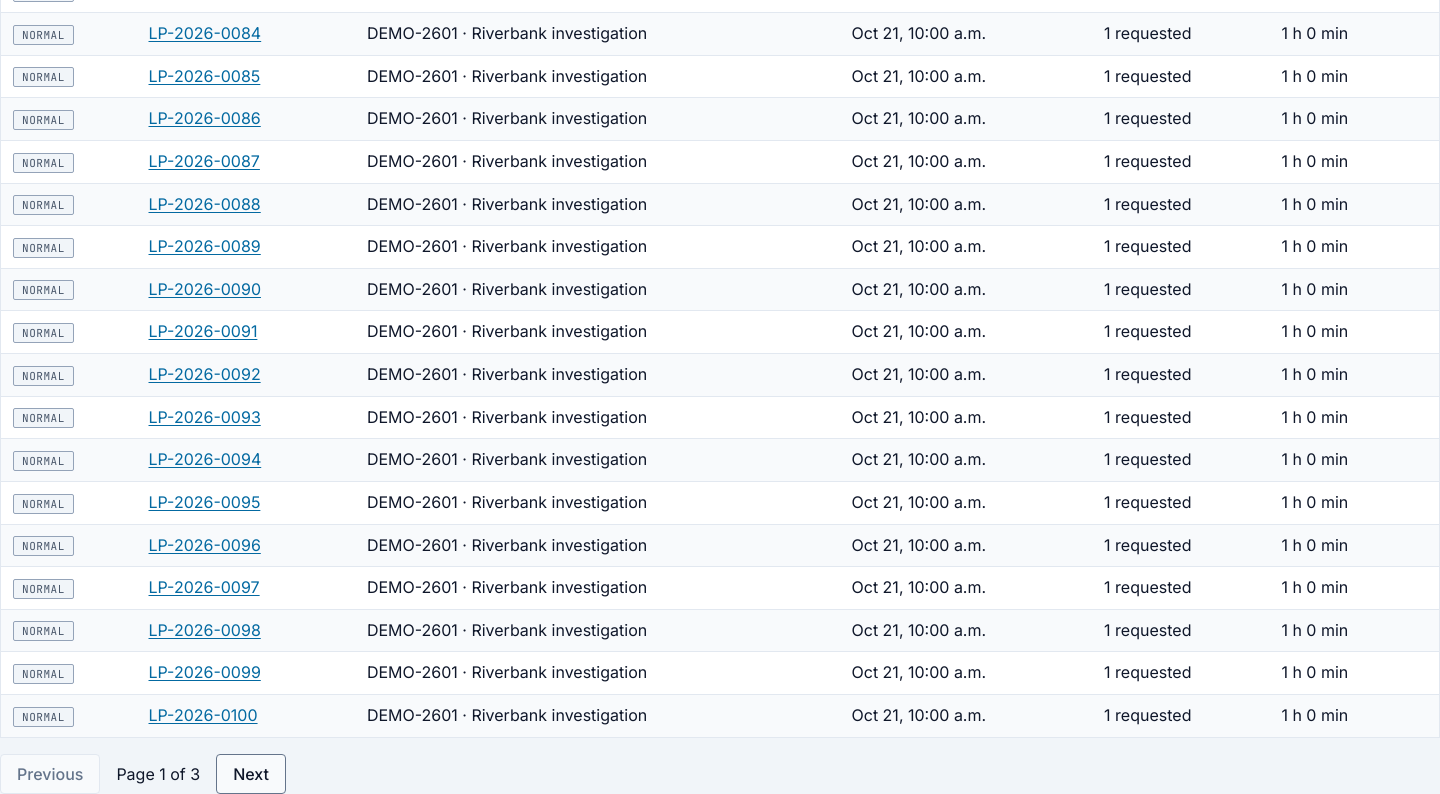
Test: Lab Testing → Worklist while a page is loading › a failed page offers a retry, and the retry loads that page
(page scrolled)
Click the button "Next". click: (251, 774)
box: [216,754,286,793]
(page scrolled)
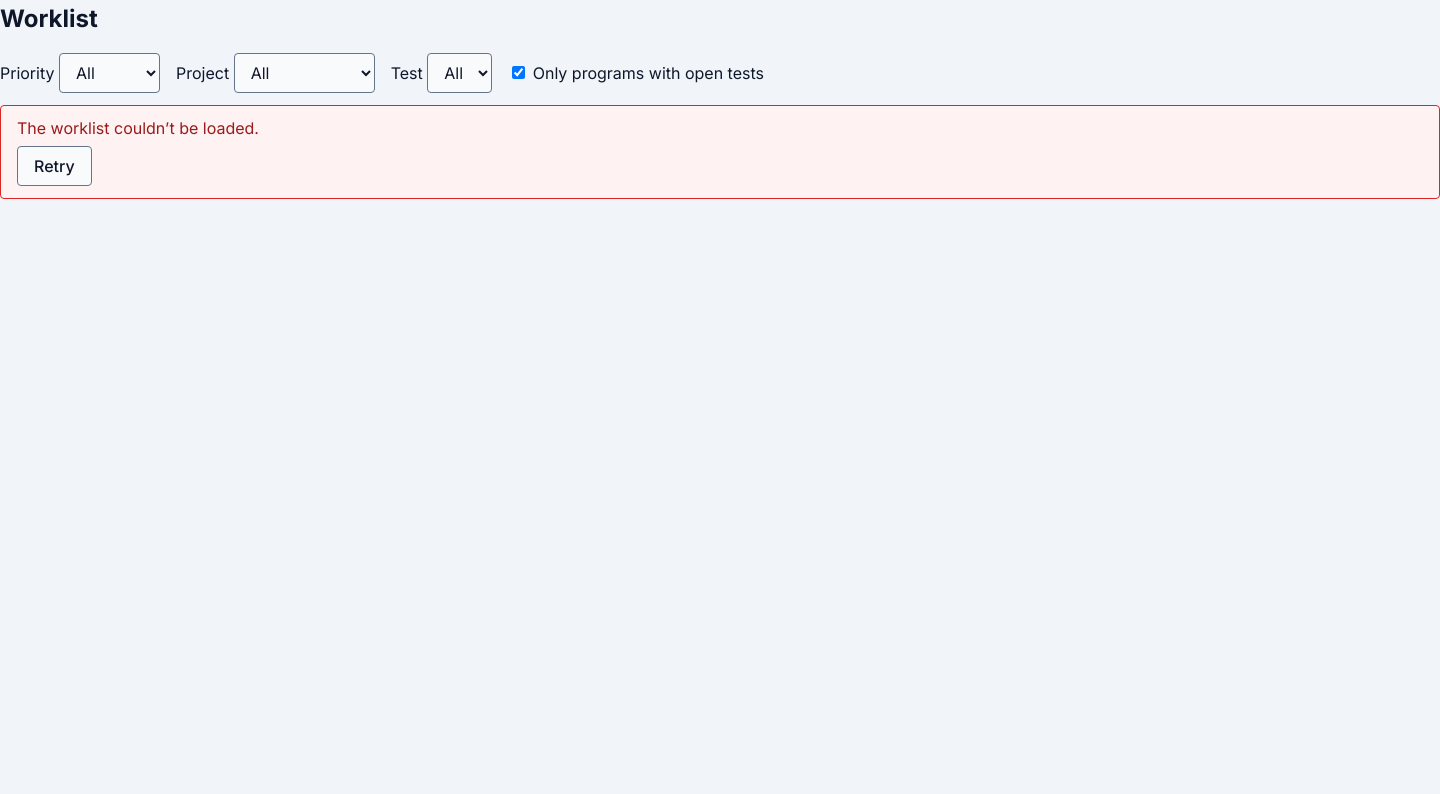
Now the text "The worklist couldn’t be loaded." is shown, box [17,118,259,138]
Now the navigation bar "Pages" is gone
Click the button "Retry". click: (54, 166)
box: [17,146,92,186]
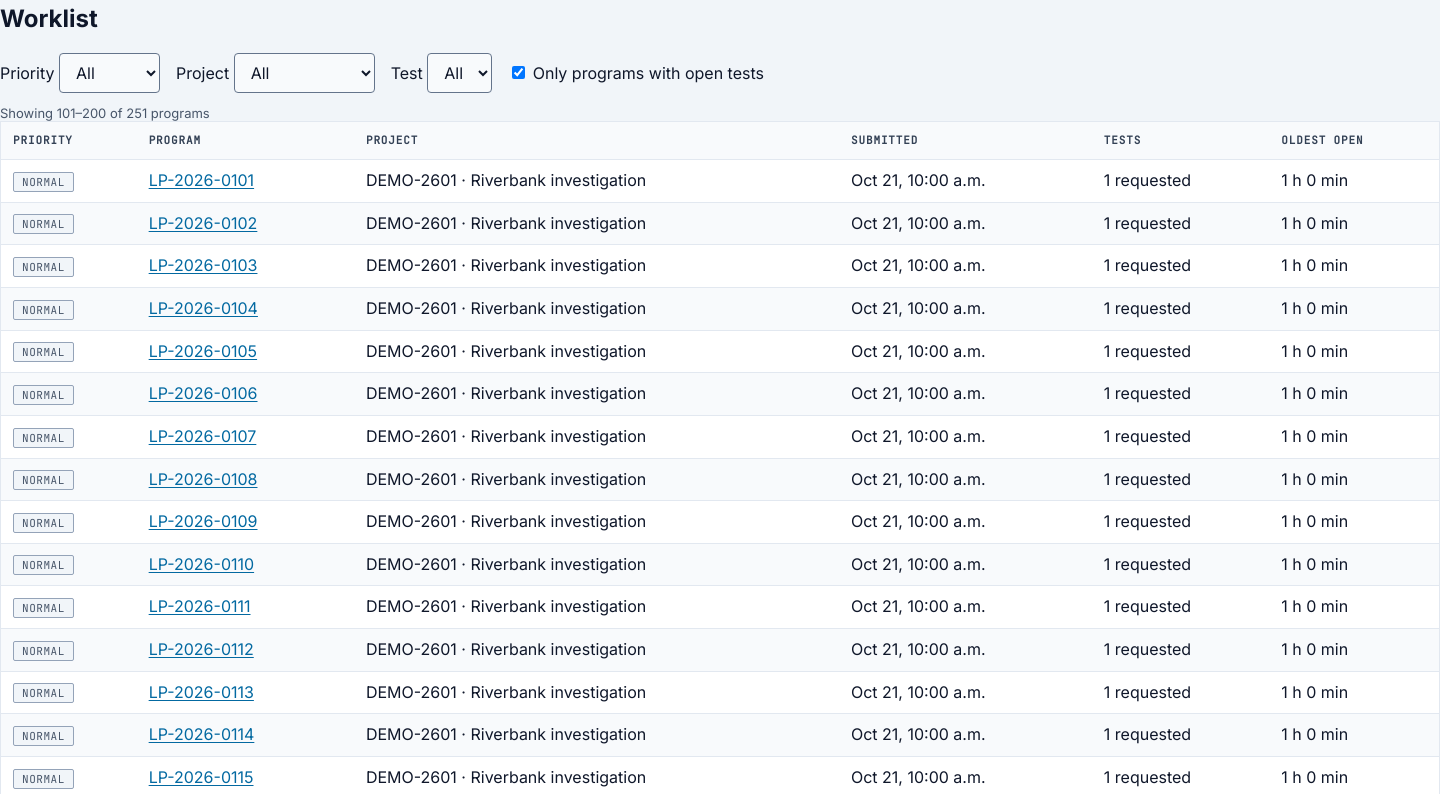
Now the text "Showing 101–200 of 251 programs" is shown, box [0,105,210,121]
